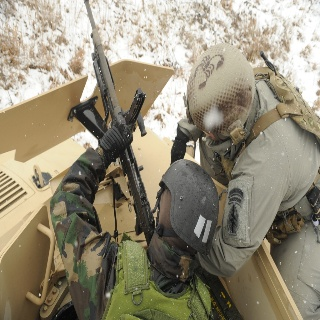rifle: (84, 1, 158, 243)
